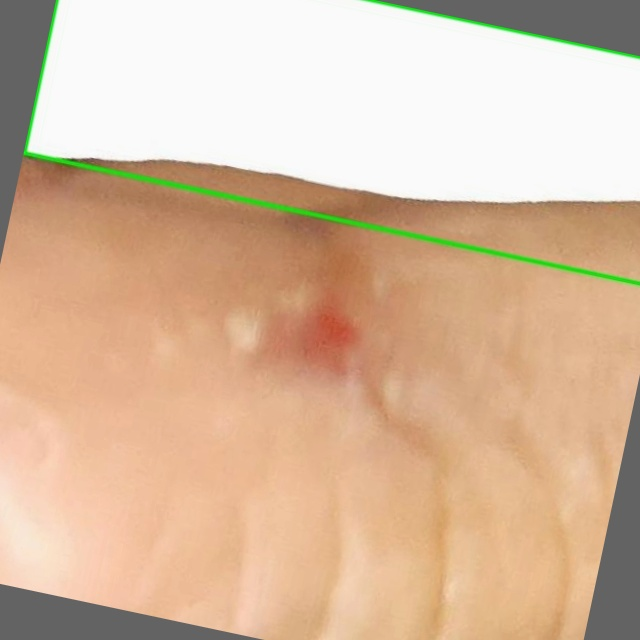Contact Dermatitis: (24, 0, 639, 283)
